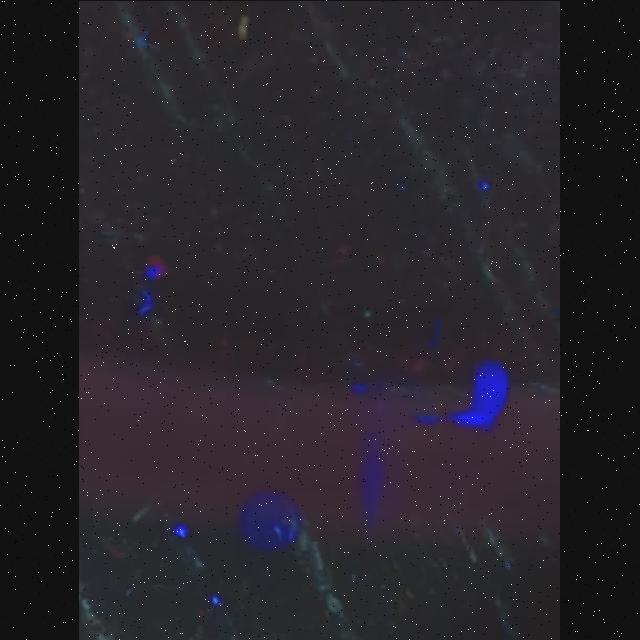microbeads: (238, 14, 250, 38)
